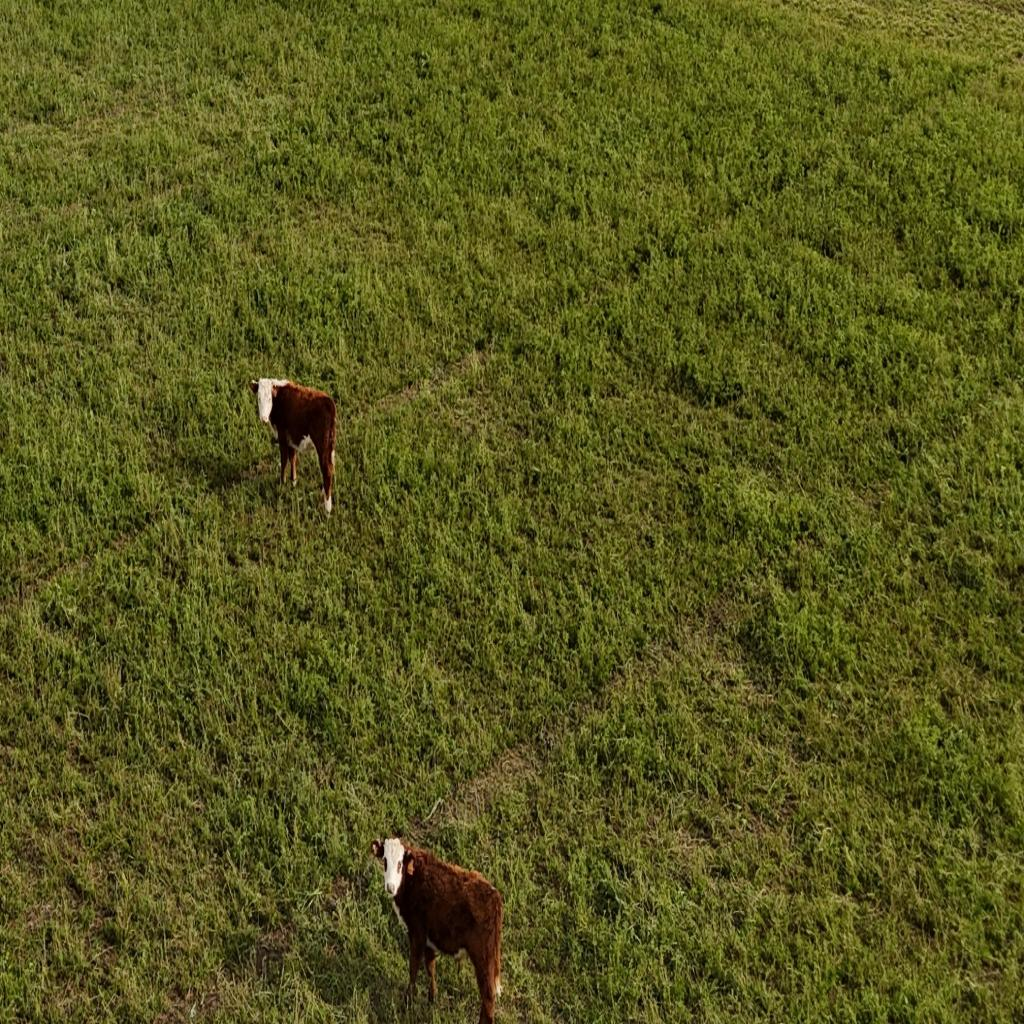cow: (369, 824, 509, 1020), (247, 368, 341, 514)
